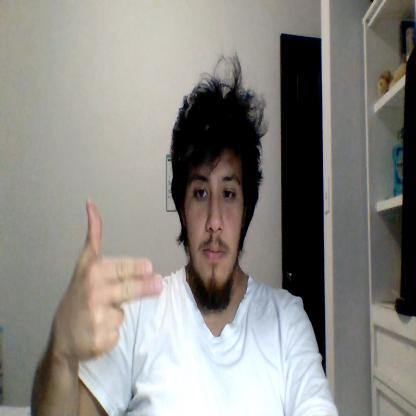H: (68, 199, 162, 359)
